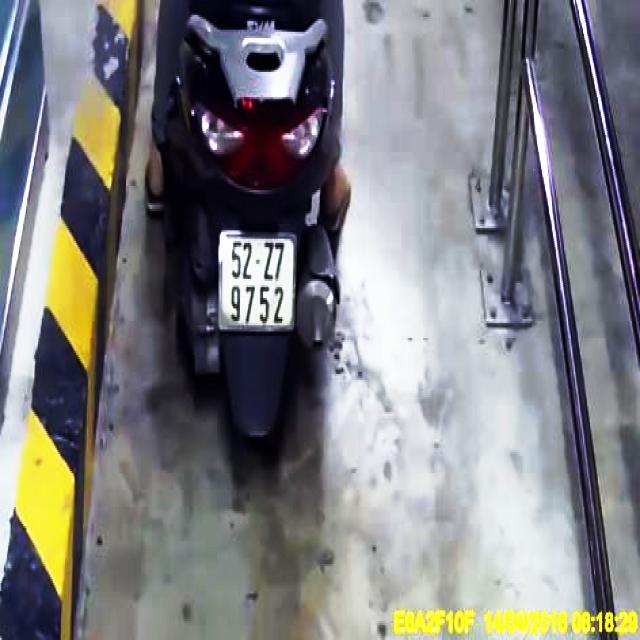license_plate: (222, 234, 297, 329)
